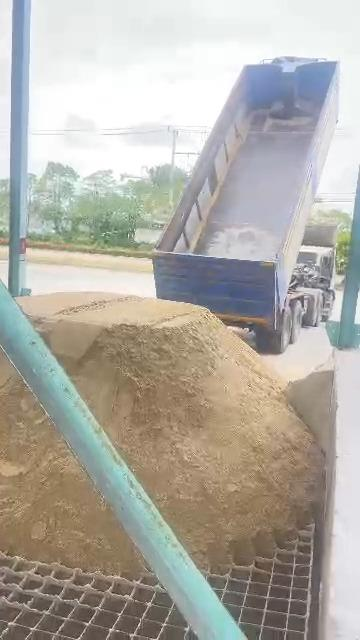sand: (22, 294, 320, 566), (0, 354, 140, 573), (287, 357, 332, 454)
